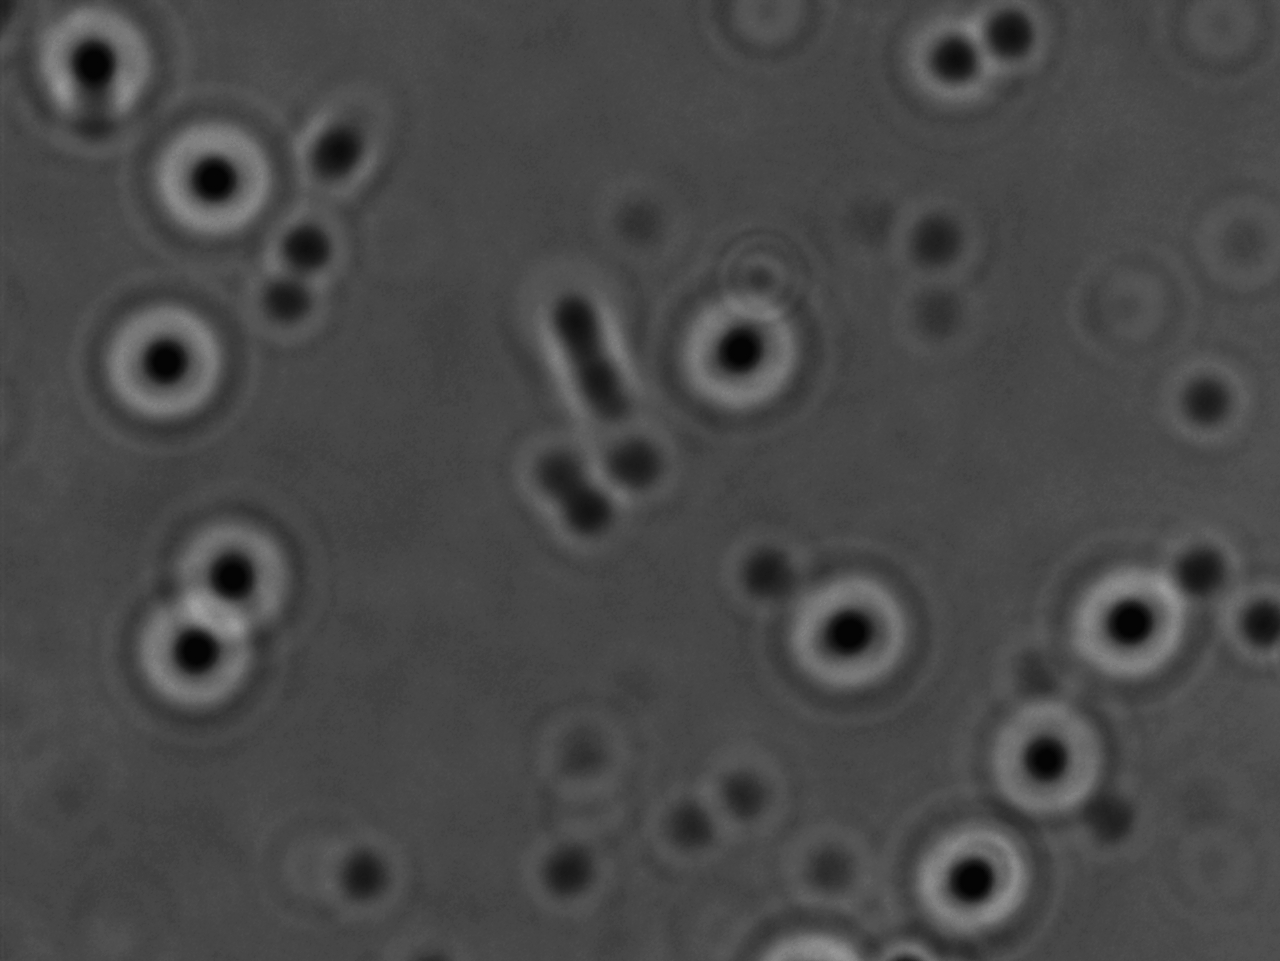depth:-32: (647, 266, 840, 438), (961, 682, 1148, 849), (902, 796, 1087, 961), (1037, 532, 1201, 708), (150, 478, 325, 643), (106, 576, 282, 730), (85, 283, 251, 441), (780, 550, 942, 710), (121, 103, 287, 253), (22, 5, 162, 157), (887, 3, 1014, 141)
